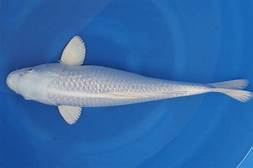white: (5, 35, 253, 123)
